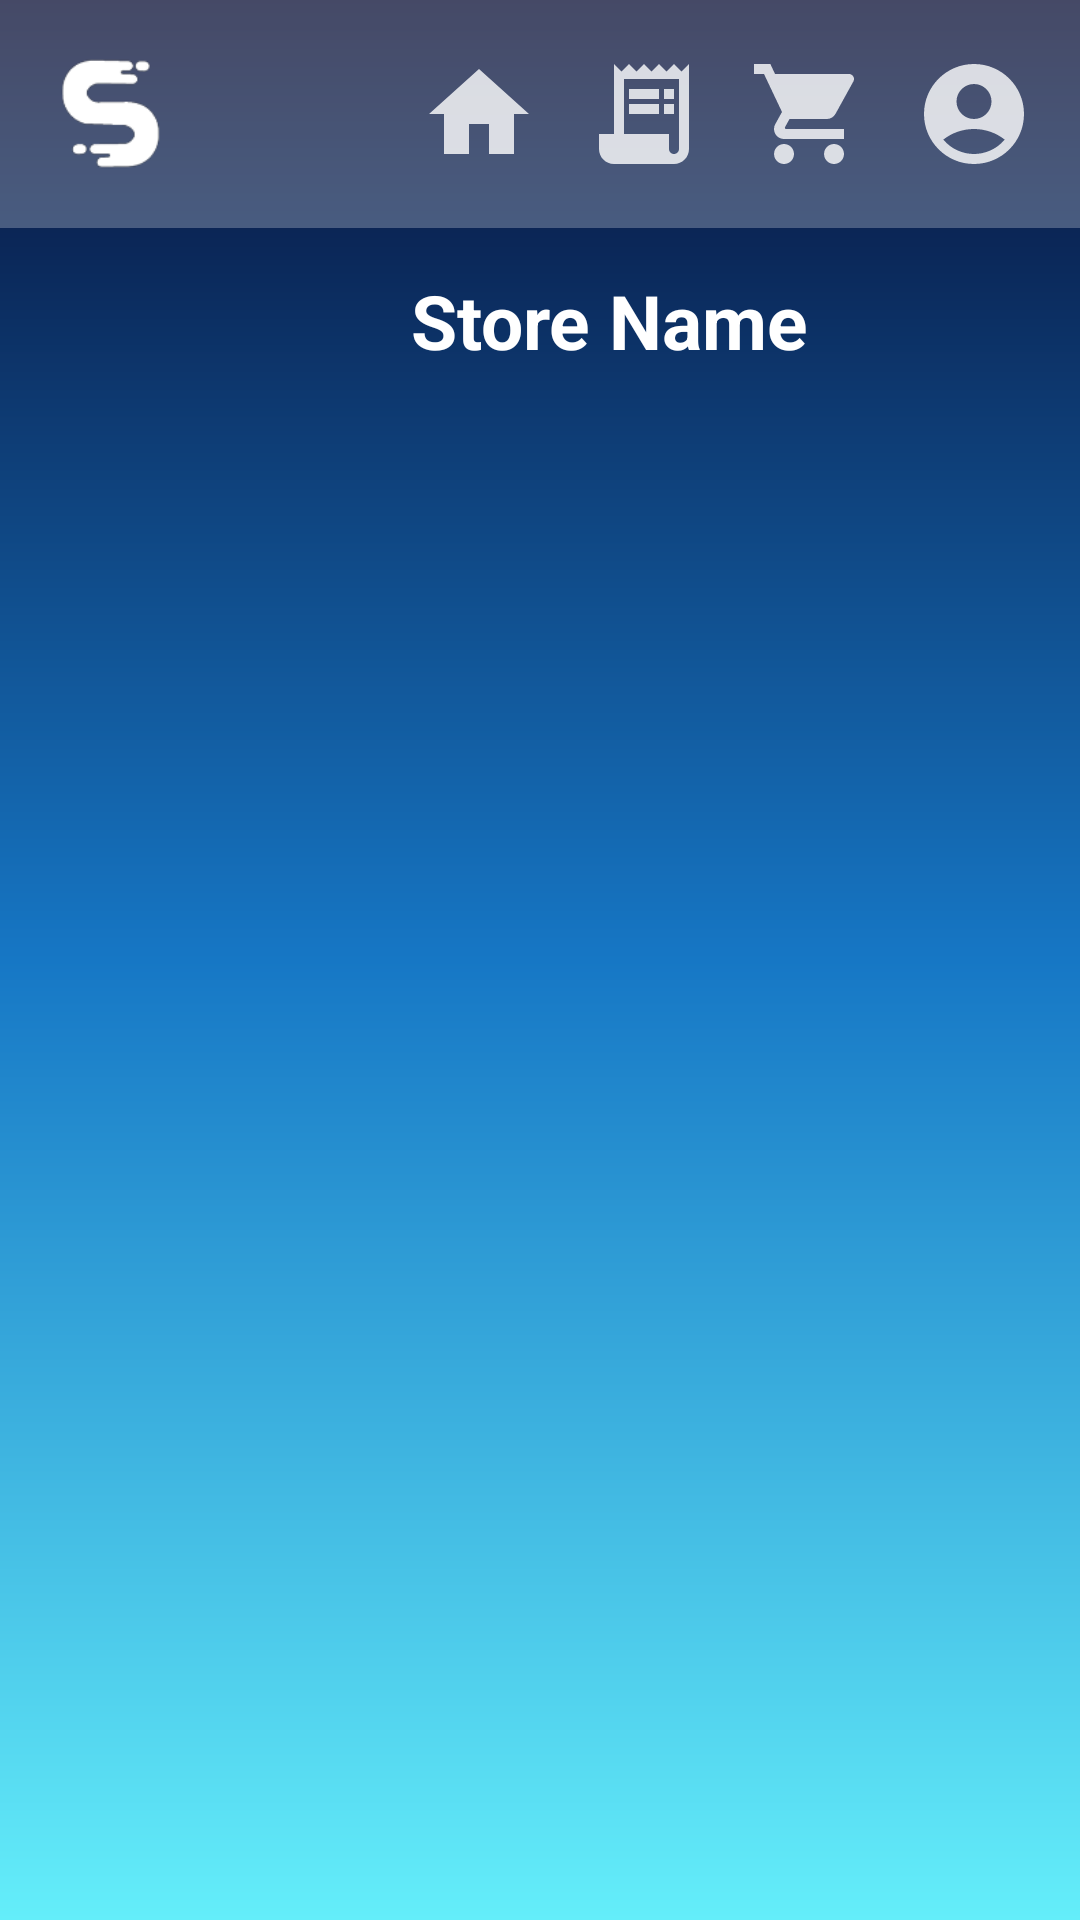

Icons on this 1080w x 1920h Android screen, each with its box as rect(x1, y1, x2, y2):
Accounts: rect(924, 64, 1024, 164)
Cart: rect(726, 64, 891, 204)
Home: rect(429, 69, 529, 154)
Orders: rect(599, 64, 689, 164)
